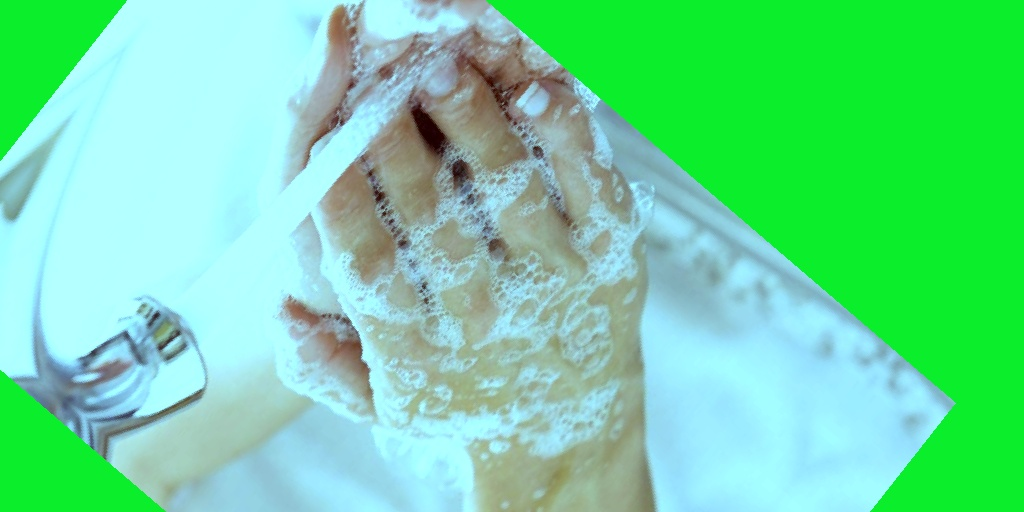washing hand: (44, 0, 790, 511)
